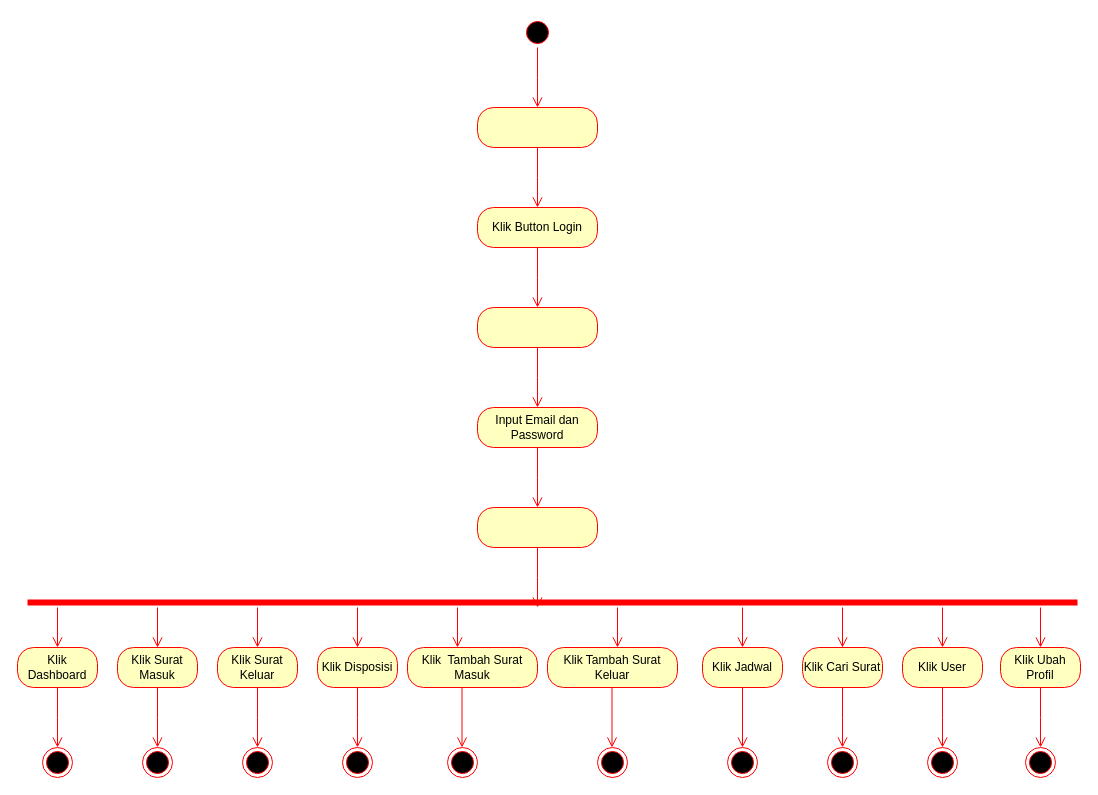
Some shapes in this 1098 by 795 pixel diagram are drawn without their labels. The shapes that lost their labels are listed below. From the top down, each one's centre as x and y in pixels, then its label:
At (537,127): "Masukan URL".
At (537,327): "Halaman Login".
At (537,527): "Tampil Dashboard Petugas".
